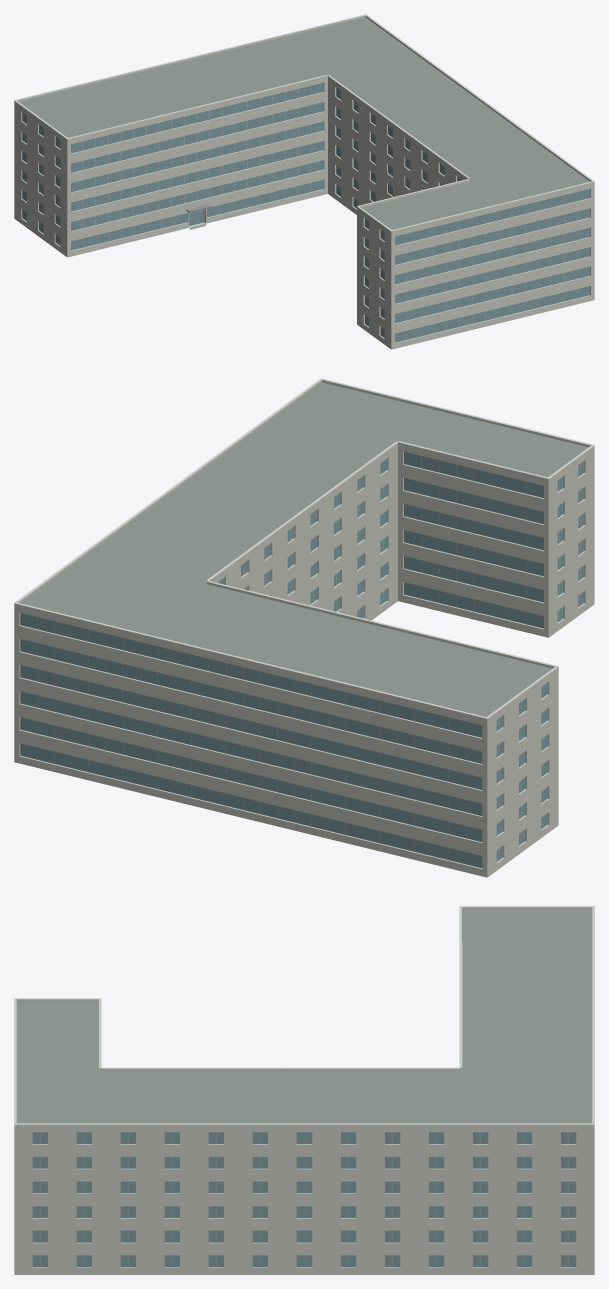
3 views of the same model, one above another, from view 1: azimuth 30°, elevation 25°; view 2: azimuth 150°, elevation 25°; view 3: azimuth 270°, elevation 25° (orthographic). The views are drawn at different scales.
Visible parts, largest first — view 1: engineering1__wall, engineering1__roof, engineering1__glass, engineering1__trim, engineering1__parapet, engineering1__frame; view 2: engineering1__wall, engineering1__roof, engineering1__glass, engineering1__trim, engineering1__parapet, engineering1__frame; view 3: engineering1__wall, engineering1__roof, engineering1__glass, engineering1__trim, engineering1__parapet, engineering1__frame.
Part boxes in pixels (box(x1,y1,x2,y2)): engineering1__wall: box(14, 77, 594, 349); engineering1__roof: box(18, 17, 589, 349); engineering1__glass: box(22, 82, 590, 342); engineering1__trim: box(14, 14, 594, 231); engineering1__parapet: box(14, 15, 594, 232); engineering1__frame: box(25, 86, 577, 339); engineering1__wall: box(14, 444, 594, 877); engineering1__roof: box(15, 382, 592, 877); engineering1__glass: box(20, 452, 583, 868); engineering1__trim: box(14, 378, 594, 719); engineering1__parapet: box(14, 380, 594, 720); engineering1__frame: box(37, 456, 580, 864); engineering1__wall: box(14, 1126, 594, 1274); engineering1__roof: box(14, 909, 594, 1274); engineering1__glass: box(32, 1132, 576, 1267); engineering1__trim: box(14, 906, 594, 1125); engineering1__parapet: box(14, 907, 594, 1126); engineering1__frame: box(40, 1132, 568, 1267).
Bounding box in the file's own units: 68.41 × 22.35 × 76.9.
